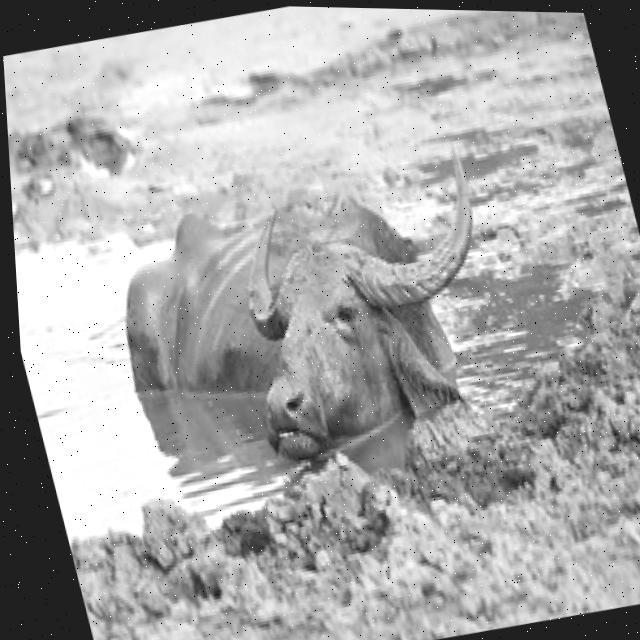Buffalo: (86, 137, 533, 492)
